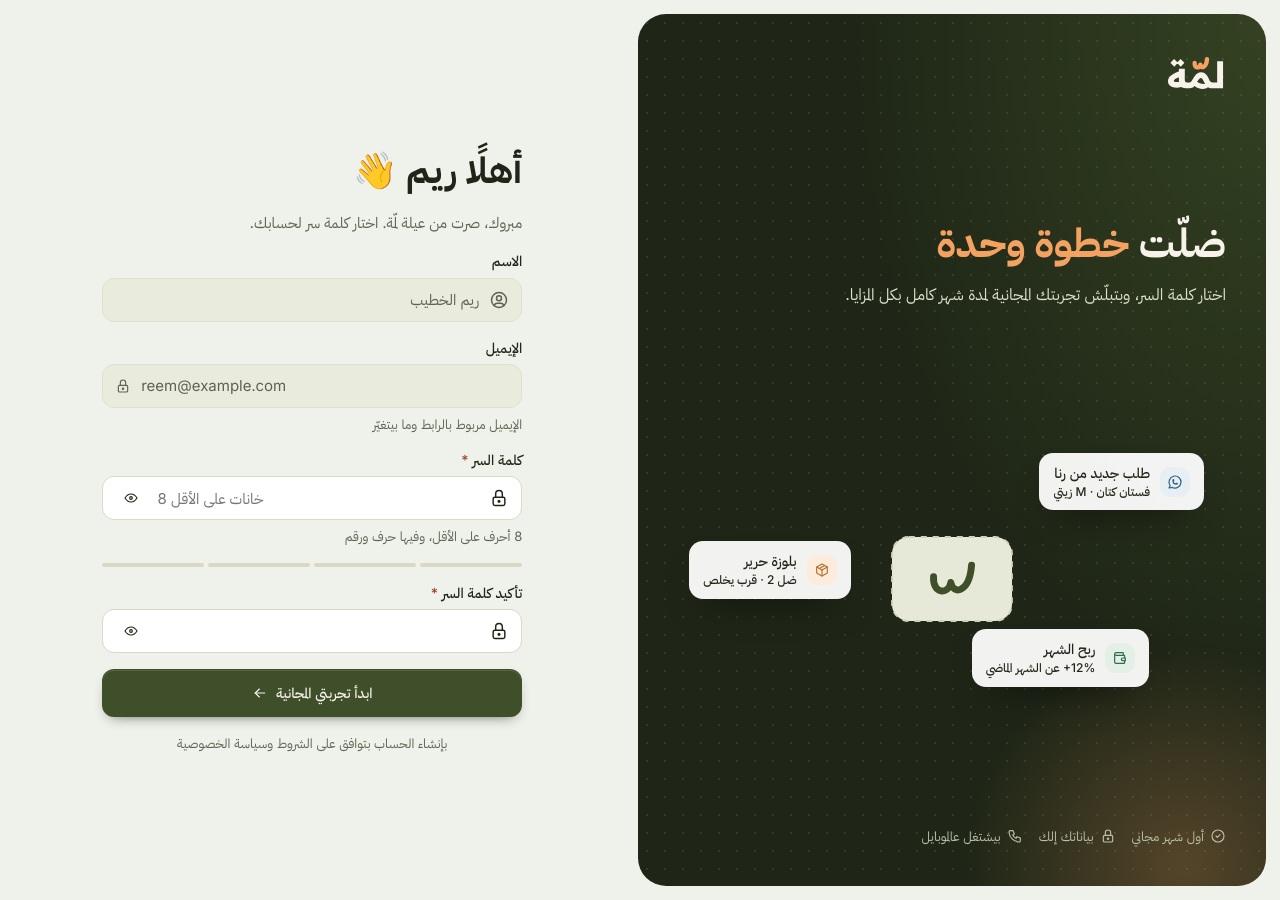
authentication pages › registers from the emailed link with a locked email, then opens onboarding
Later steps or results of the test are not shown.
Expected: the heading "أهلًا ريم 👋" is shown, 353,148 -> 522,192
Expected: the field labelled "الإيميل" holds "reem@example.com", 139,365 -> 509,407
In the password field labelled "كلمة السر *": (318, 498) 155,477 -> 481,519, type "Phase1test2026"
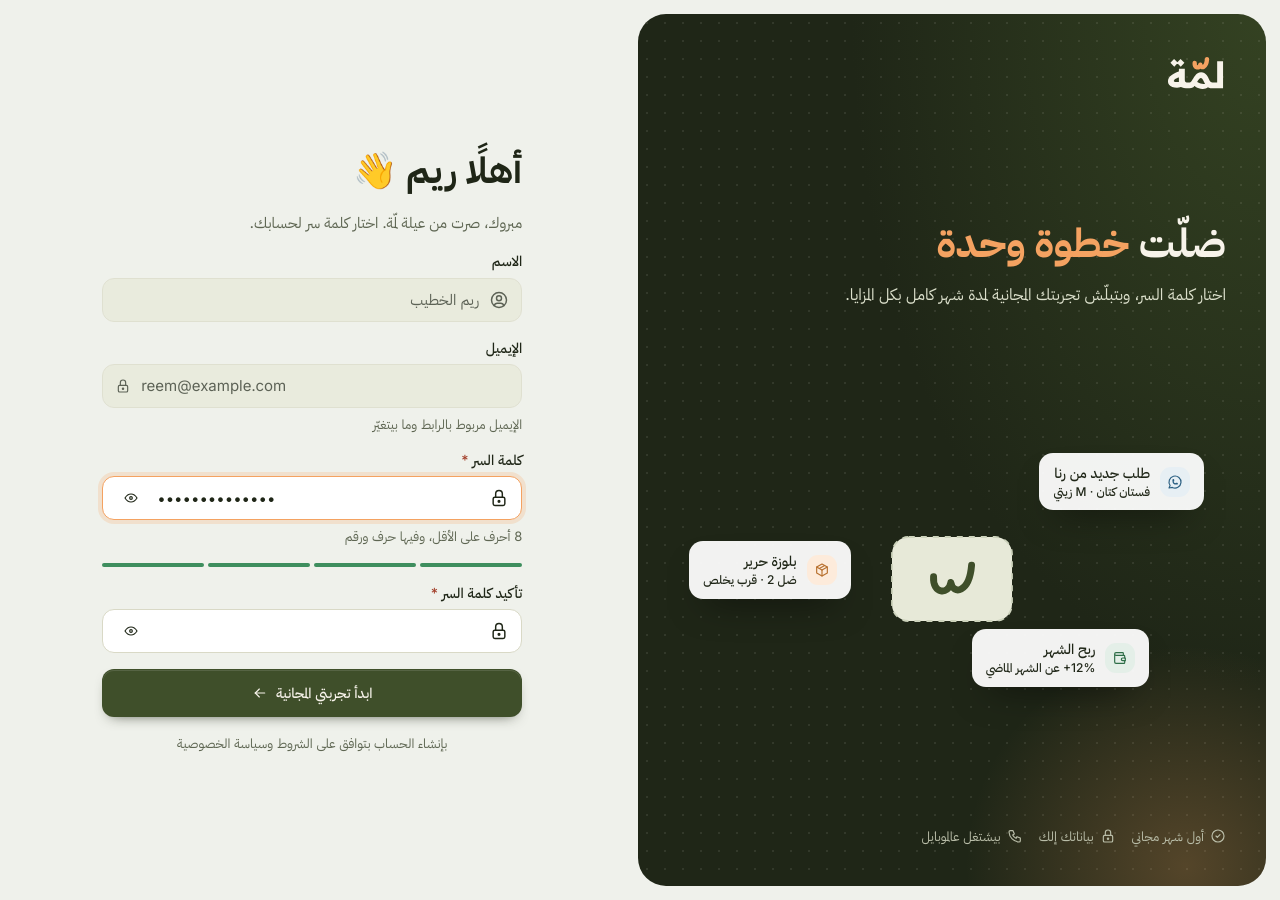
Result: the element named "قوة كلمة السر" has attribute aria-valuenow="4" at 102,562 -> 522,566
In the password field labelled "تأكيد كلمة السر *": (318, 631) 155,610 -> 481,652, type "Phase1test2025"
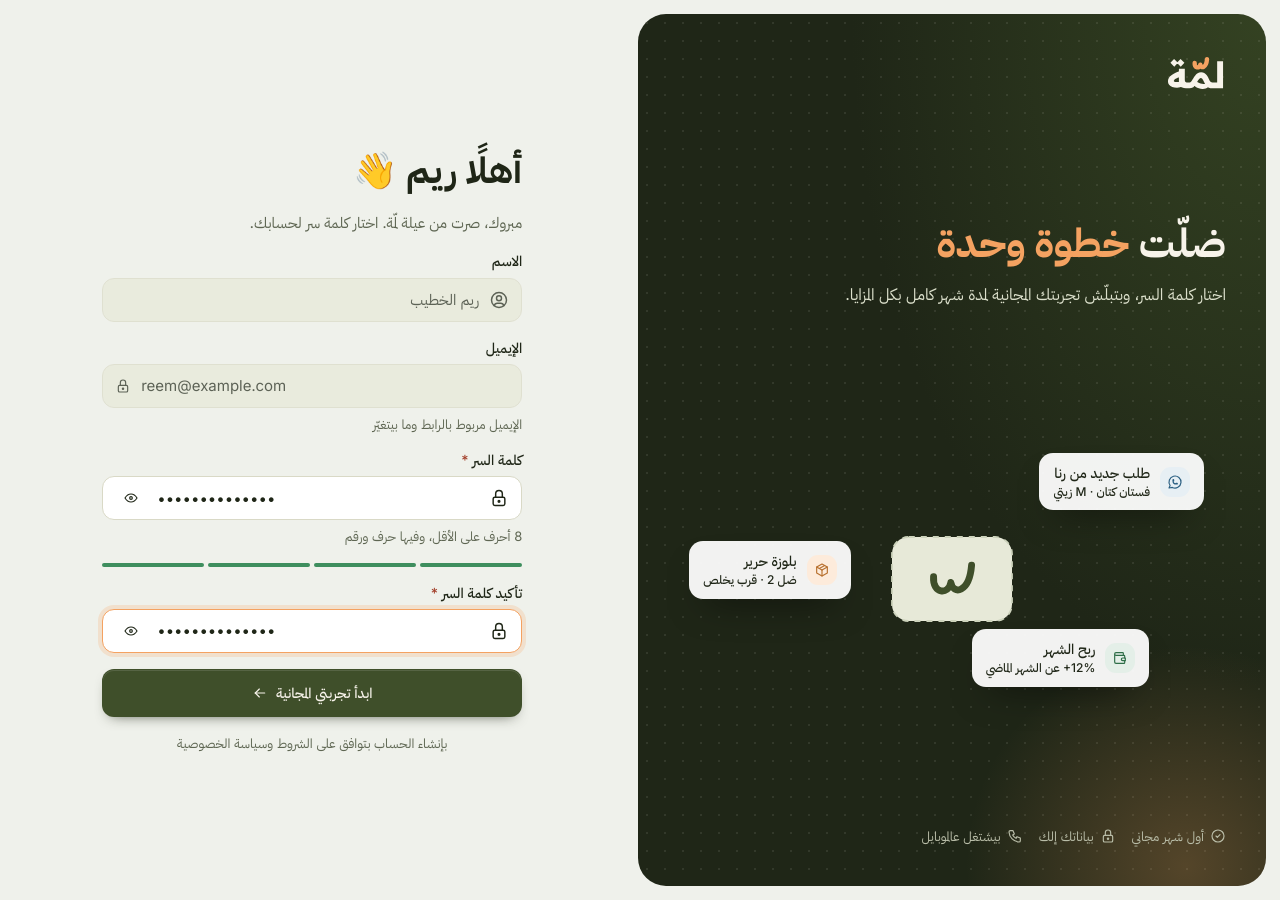
Click the button "ابدأ تجربتي المجانية": (312, 693) 102,669 -> 522,717
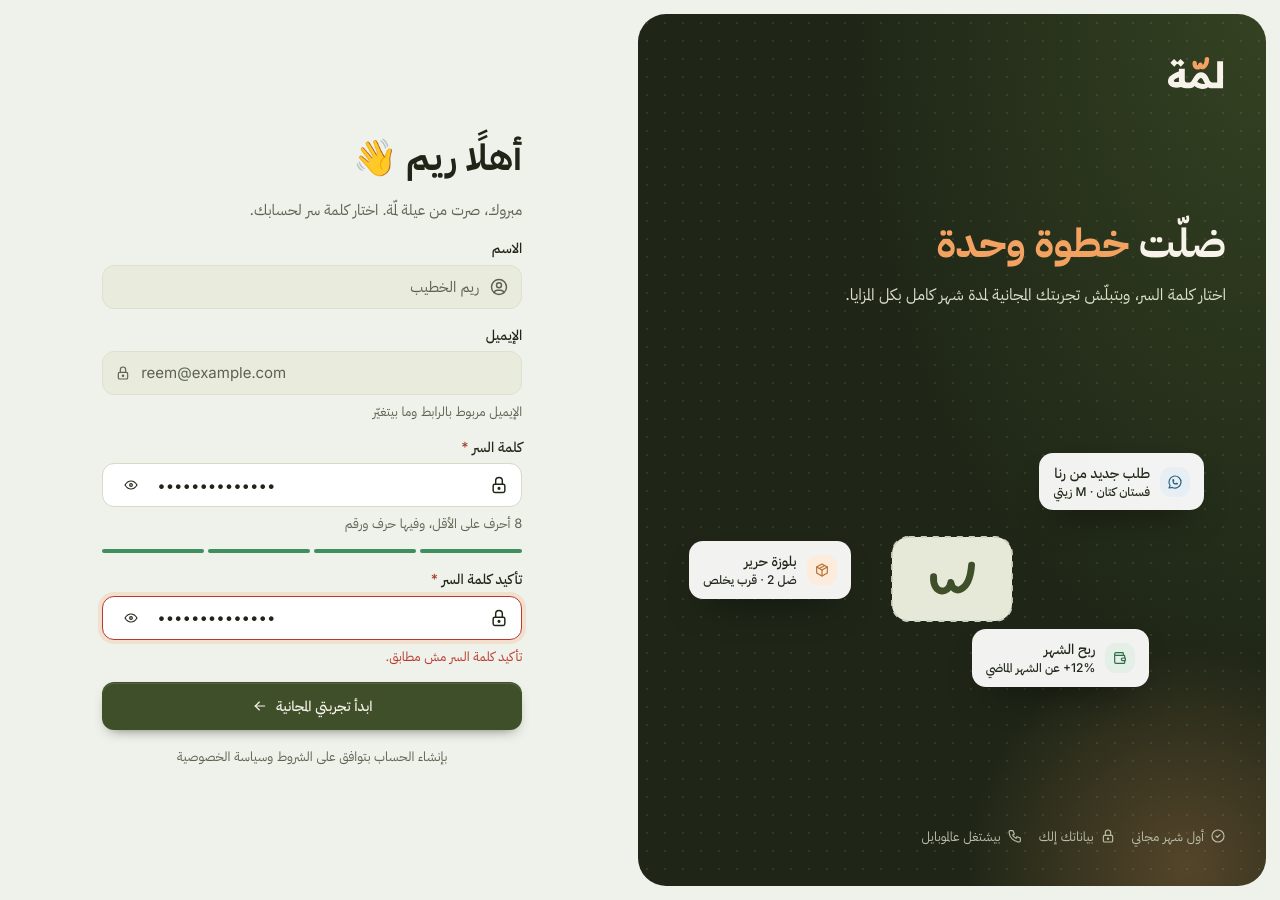
Result: the text "تأكيد كلمة السر مش مطابق." is shown at 386,648 -> 522,664
